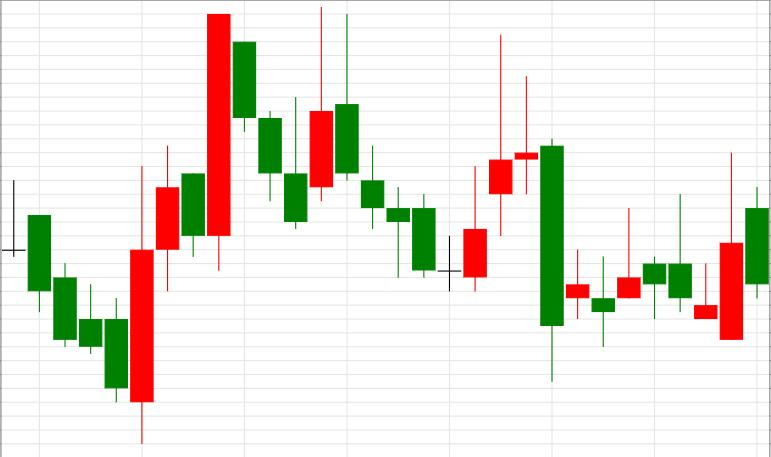bullish_engulfing_rise: (0, 167, 153, 443)
three_black_crows_fall: (131, 13, 307, 443)
